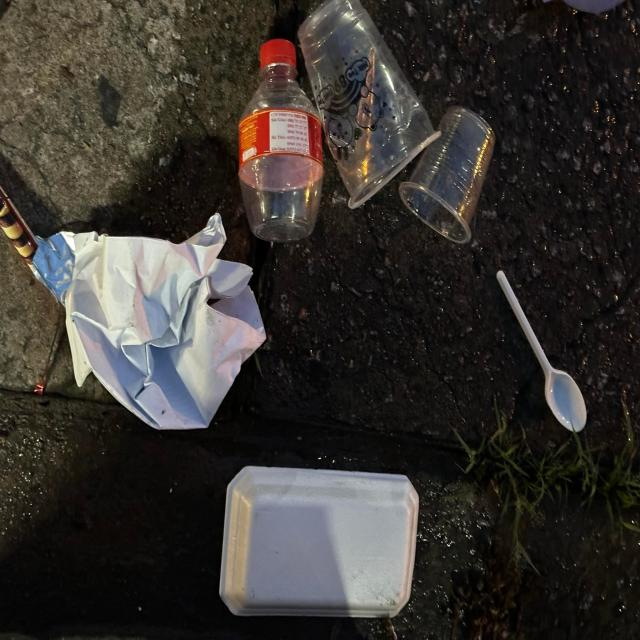bottle: (238, 37, 323, 241)
foam box: (219, 464, 420, 618)
paper: (33, 210, 268, 432)
plastic glass: (297, 0, 442, 213), (400, 106, 496, 247)
plastic utensil: (496, 268, 588, 432)
